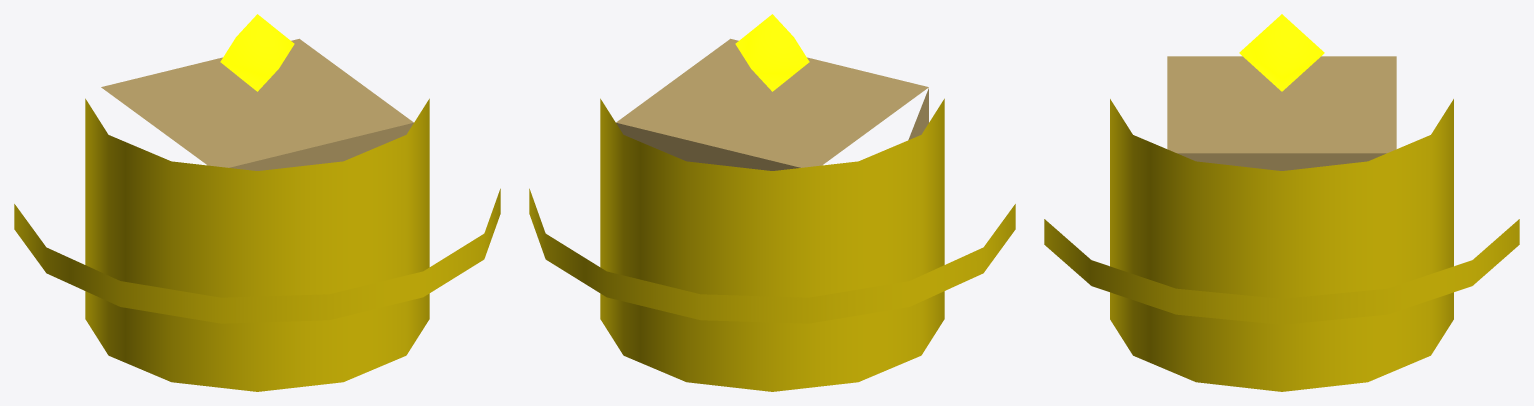
File: relicario_astral.glb
3 renders of one model, left to right at view 1: azimuth 30°, elevation 25°; view 2: azimuth 150°, elevation 25°; view 3: azimuth 270°, elevation 25°, orthographic.
Visible parts, largest first — view 1: Accent, Base, Glow; view 2: Accent, Base, Glow; view 3: Accent, Base, Glow.
Boxes of the visible parts, x1,y1,x2,y2 form: Accent: (14, 98, 500, 391); Base: (101, 38, 413, 170); Glow: (220, 14, 294, 91); Accent: (529, 98, 1015, 391); Base: (616, 38, 928, 170); Glow: (735, 14, 809, 91); Accent: (1044, 99, 1519, 391); Base: (1167, 56, 1396, 170); Glow: (1239, 14, 1324, 91).
Bounding box in the file's own units: 0.68 × 0.47 × 0.663.
